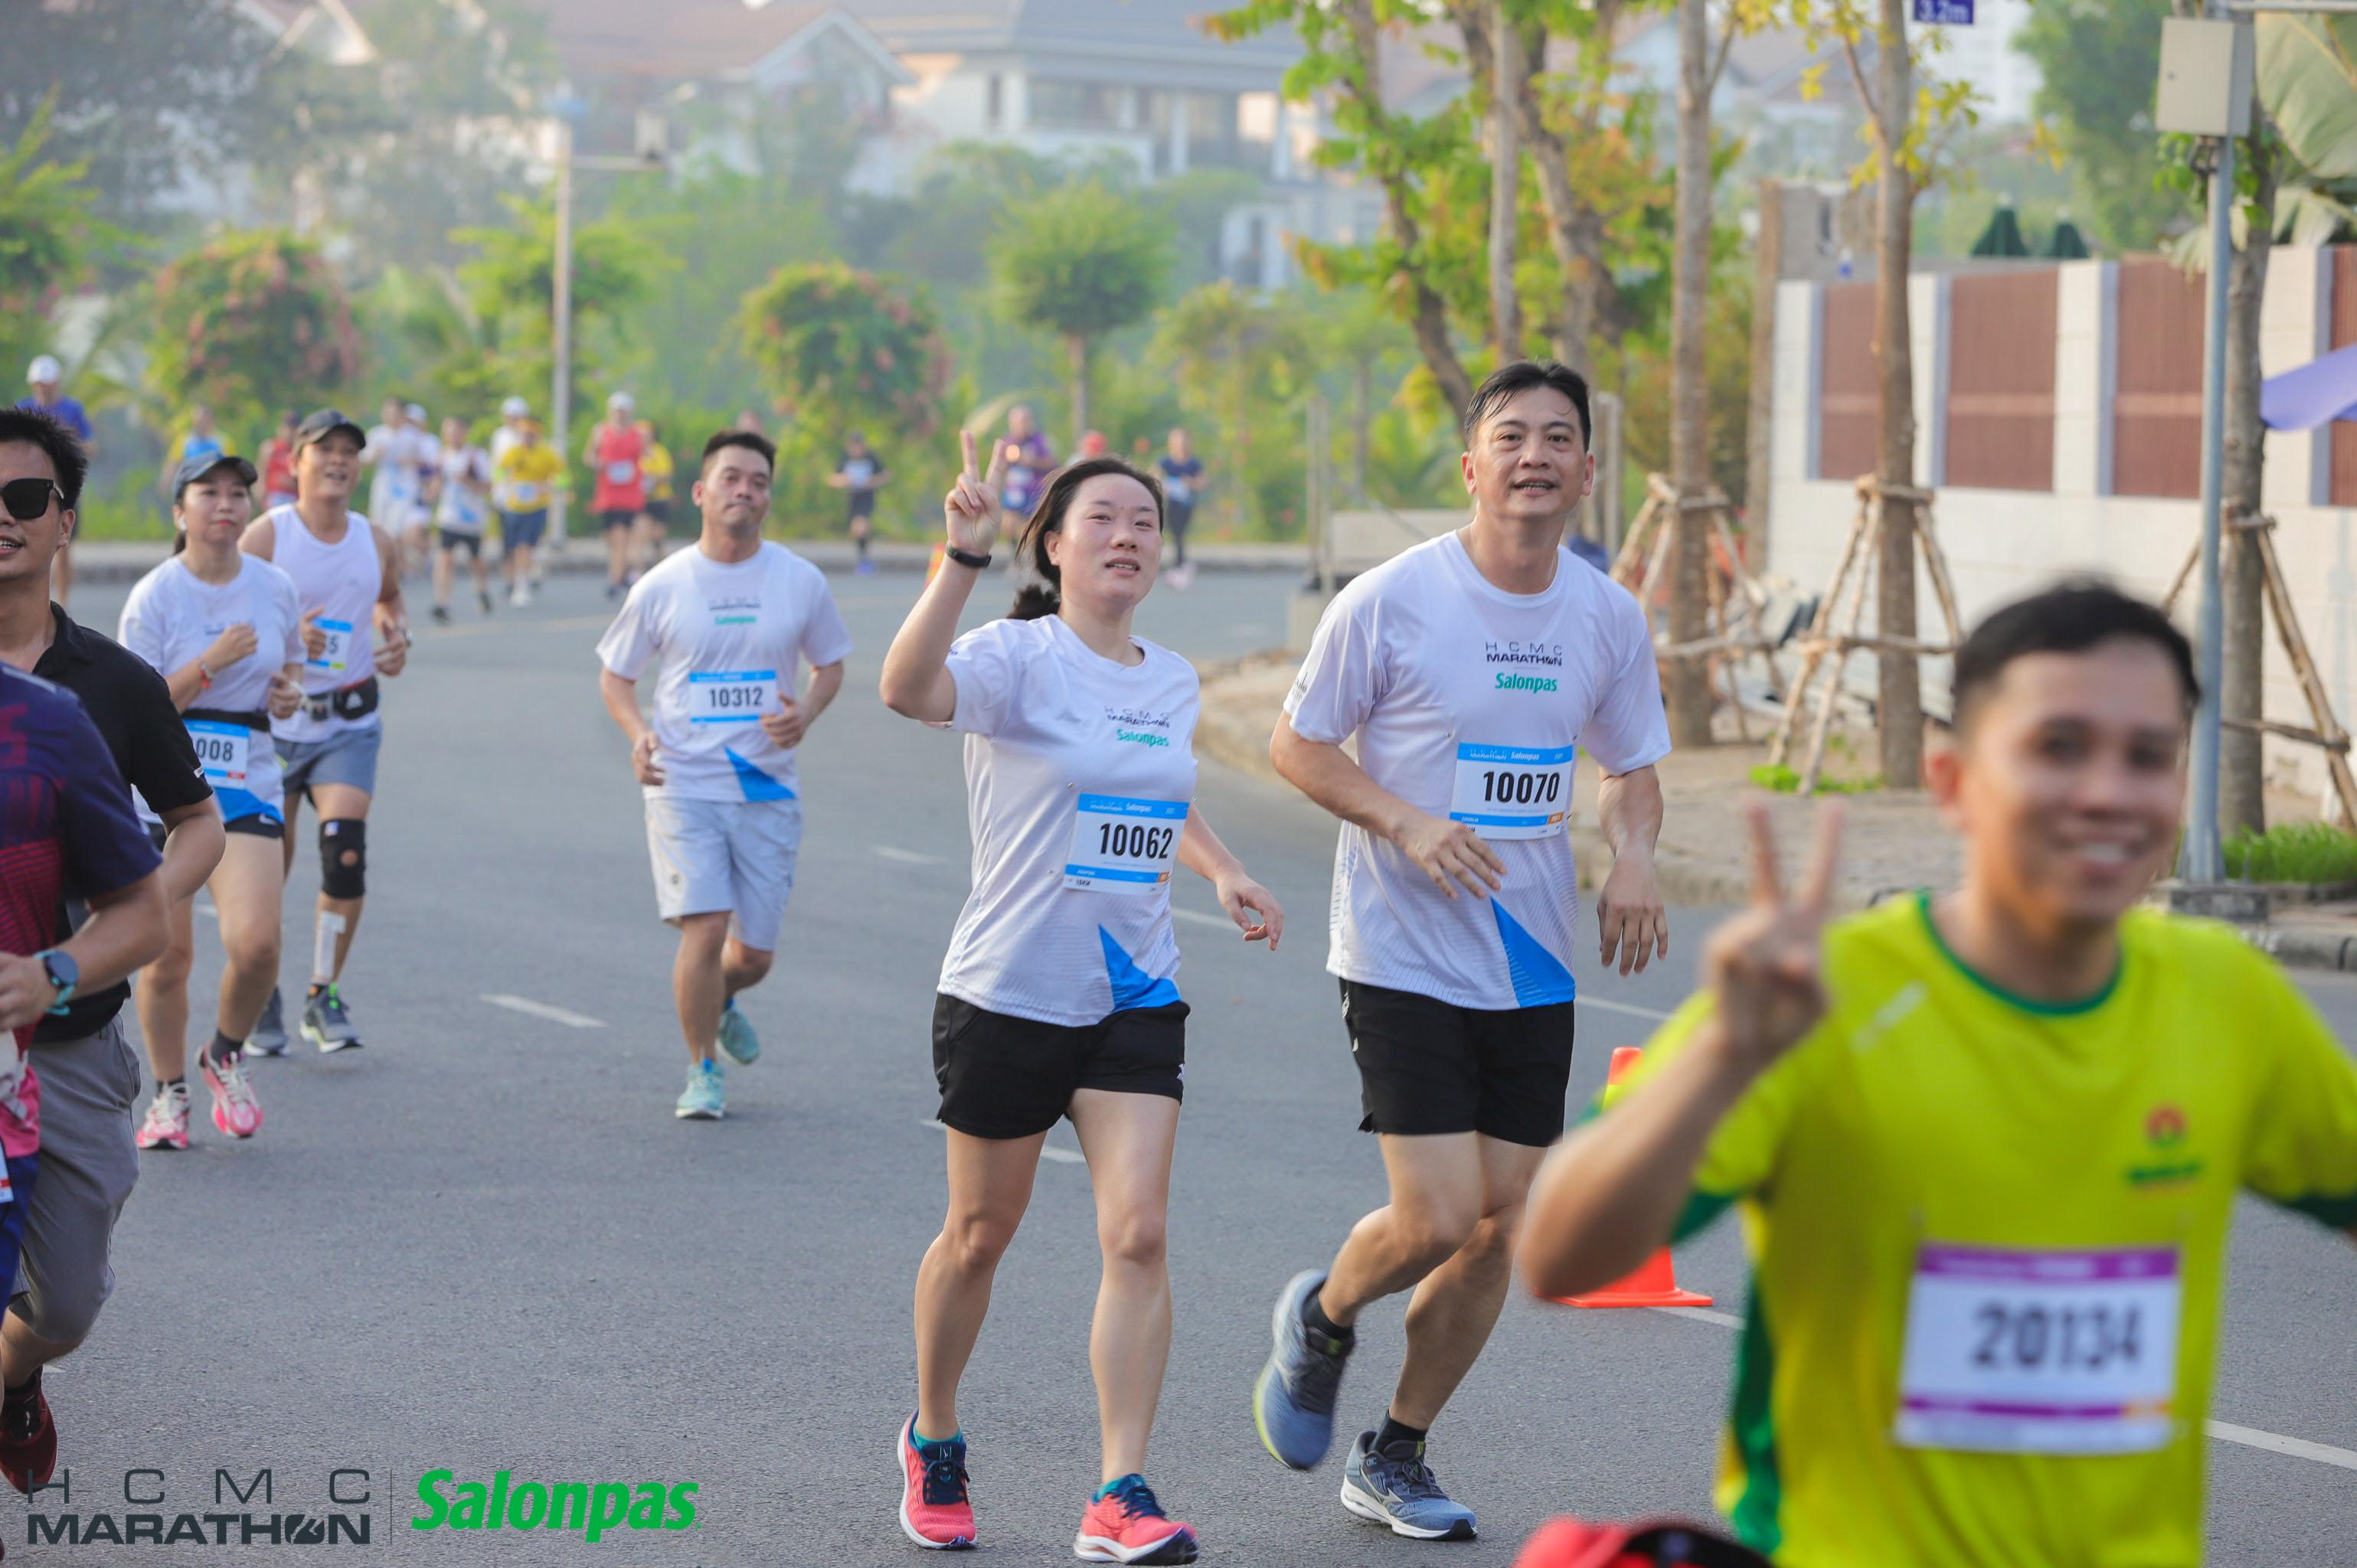bib: (1902, 1241, 2179, 1461), (1066, 796, 1185, 903), (1451, 738, 1577, 838), (688, 674, 779, 728), (187, 717, 248, 786), (290, 614, 350, 677)
